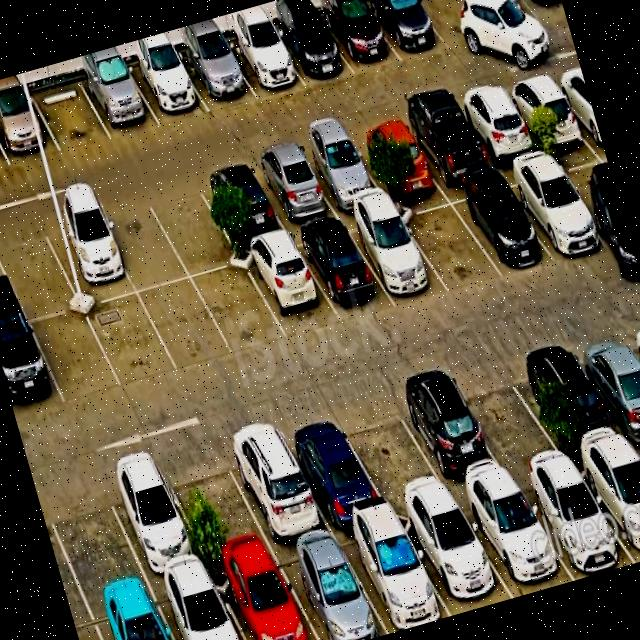empty: (450, 353, 568, 478), (156, 440, 272, 566), (37, 469, 147, 601), (333, 390, 451, 510), (394, 192, 502, 292), (144, 177, 241, 277), (95, 194, 189, 292), (138, 278, 234, 372), (85, 293, 179, 388), (30, 309, 121, 404), (192, 264, 287, 355), (549, 141, 631, 246), (0, 222, 80, 320), (30, 78, 111, 151), (414, 0, 496, 51)
occupied: (388, 370, 512, 497), (217, 417, 332, 547), (96, 454, 208, 582), (514, 464, 635, 580), (275, 407, 389, 529), (456, 480, 574, 597), (518, 335, 630, 458), (334, 515, 450, 633), (396, 500, 513, 615), (271, 534, 388, 640), (498, 155, 608, 258), (239, 235, 340, 340), (444, 176, 551, 275), (291, 220, 394, 321), (342, 207, 449, 303), (210, 551, 318, 640), (39, 207, 136, 306), (568, 323, 640, 441), (573, 443, 640, 562), (398, 102, 494, 185), (195, 162, 287, 247), (248, 148, 338, 229), (295, 134, 386, 213), (348, 118, 440, 195), (454, 86, 542, 163), (150, 568, 244, 640), (501, 72, 589, 148), (0, 318, 65, 420), (317, 0, 401, 74), (269, 13, 354, 85), (78, 66, 160, 138), (126, 55, 209, 125), (222, 30, 305, 97), (178, 43, 256, 111), (364, 0, 449, 61), (88, 584, 174, 640), (0, 91, 60, 165), (469, 0, 542, 35), (526, 0, 566, 21)
